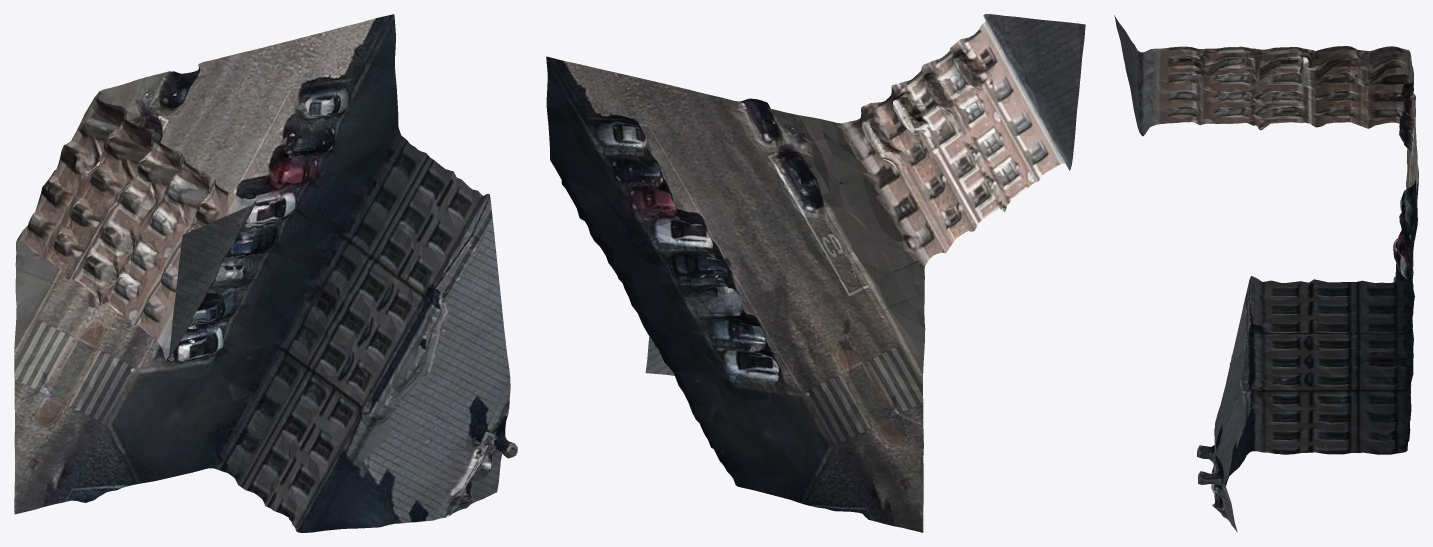
File: Tile_+038_+020_L21_00013000.obj
3 renders of one model, left to right at view 1: azimuth 30°, elevation 25°; view 2: azimuth 150°, elevation 25°; view 3: azimuth 270°, elevation 25°, orthographic. The views are drawn at different scales.
Size of the model in its own units: 31.38 by 31.38 by 24.49.
1 material, 1 textured.
